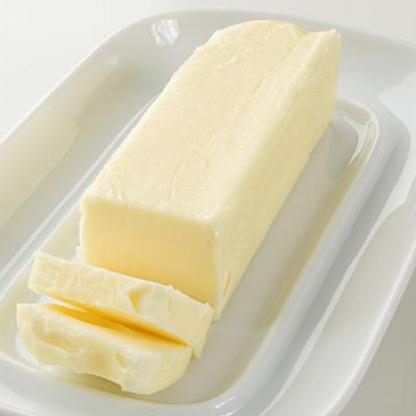butter: (89, 22, 340, 306), (25, 252, 211, 366), (18, 295, 196, 400)
